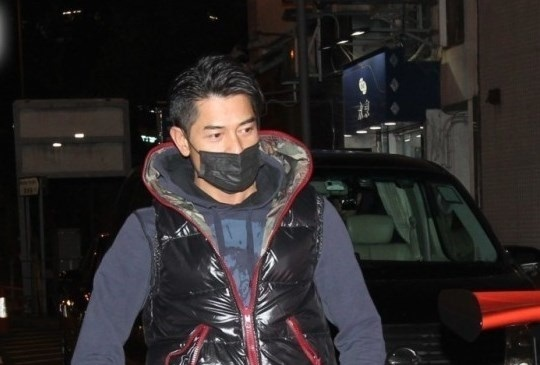face_mask: (196, 95, 261, 193)
